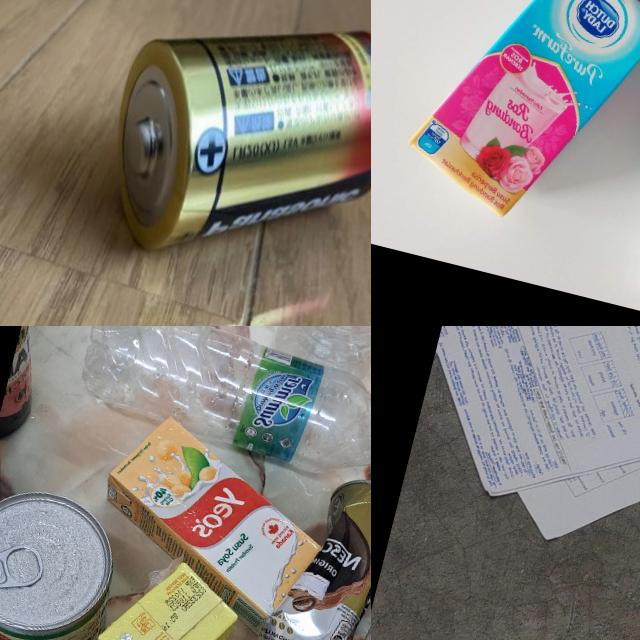aba de lata: (0, 533, 46, 603)
bateria: (84, 0, 371, 312)
caixinha: (83, 404, 339, 634), (400, 0, 640, 240), (77, 543, 241, 640)
garrafa de vidro: (0, 326, 71, 439), (0, 361, 25, 604)
garrafa plástica: (66, 326, 371, 487), (265, 439, 371, 640), (251, 326, 371, 411)
lata: (239, 455, 371, 640), (0, 482, 127, 640)
papel: (398, 326, 640, 587)
